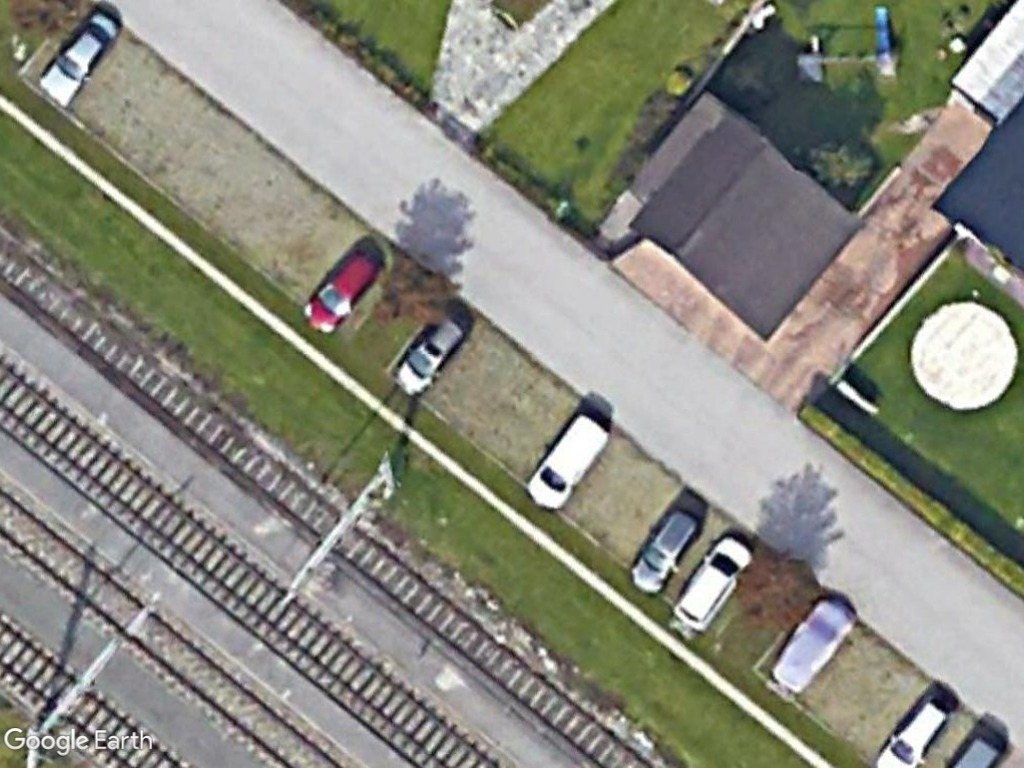car: (33, 8, 122, 113), (671, 532, 755, 638), (387, 303, 473, 401), (299, 243, 387, 337), (622, 500, 705, 598), (867, 689, 958, 768)
van: (521, 410, 616, 513)
